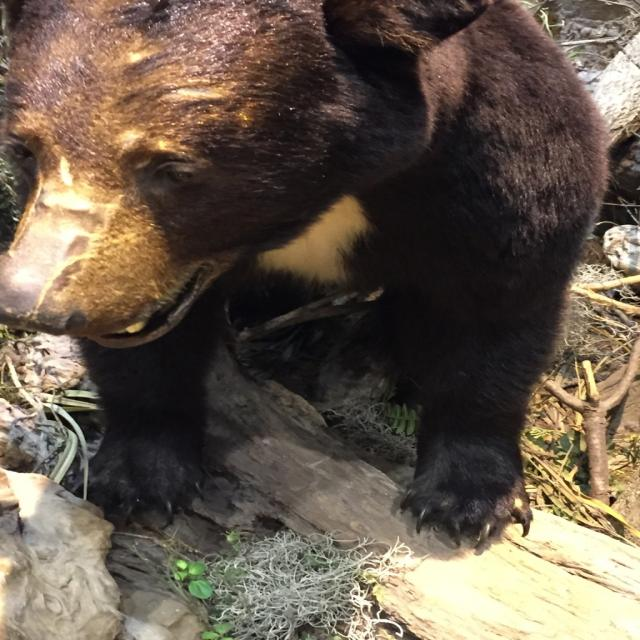Cheetahs: (0, 0, 620, 549)
